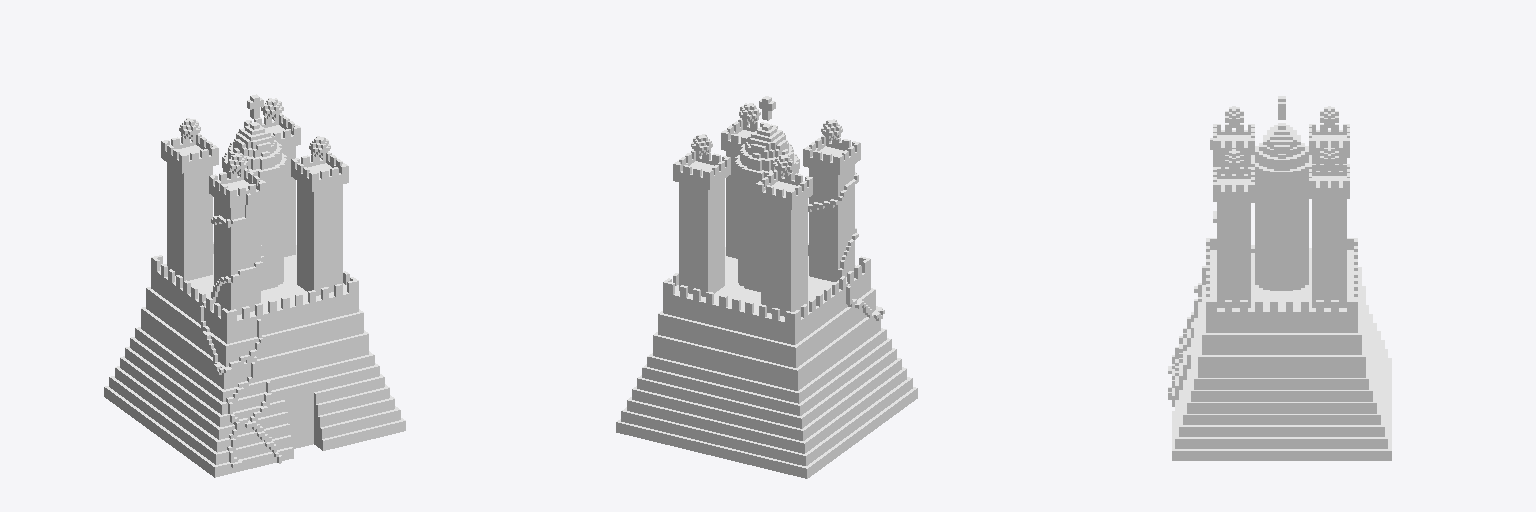
The model's file is castle.obj.
The picture shows the model from 3 angles: view 1: azimuth 30°, elevation 25°; view 2: azimuth 150°, elevation 25°; view 3: azimuth 270°, elevation 25°; orthographic projection.
Size of the model in its own units: 58 by 92 by 59.